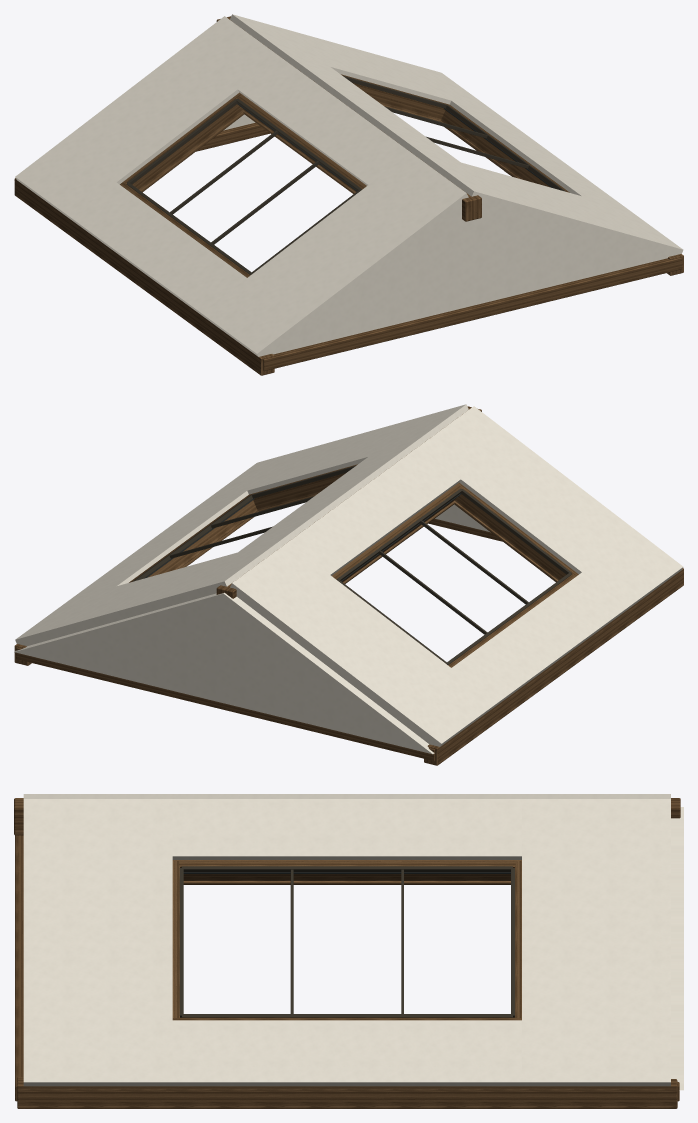
File: cozy-ceiling.glb
3 views of the same model, one above another, from view 1: azimuth 30°, elevation 25°; view 2: azimuth 150°, elevation 25°; view 3: azimuth 270°, elevation 25° (orthographic). The views are drawn at different scales.
Parts seen in each view (by area): view 1: South | plaster gable infill, West | plaster ceiling field 1, West | plaster ceiling field 2, West | plaster ceiling field 4, West | plaster ceiling field 3, East | plaster ceiling field 1, East | plaster ceiling field 2, South | gable sill beam, West | eaves bearing beam, East | plaster ceiling field 3, East | plaster ceiling field 4, West skylight | oak trimmer.001 (+11 smaller); view 2: North | plaster gable infill, West | plaster ceiling field 2, West | plaster ceiling field 1, West | plaster ceiling field 4, West | plaster ceiling field 3, East | plaster ceiling field 2, East | plaster ceiling field 1, West | eaves bearing beam, East | plaster ceiling field 3, East | plaster ceiling field 4, North | gable sill beam, West skylight | oak trimmer (+11 smaller); view 3: East | plaster ceiling field 1, East | plaster ceiling field 2, East | plaster ceiling field 4, East | plaster ceiling field 3, East | eaves bearing beam, East skylight | oak header, North | plaster gable infill, East skylight | bronze sash rail, South | gable sill beam, West | plaster ceiling field 3, East skylight | oak header.001, East skylight | bronze sash rail.001 (+10 smaller).
Boxes of the visible parts, x1,y1,x2,y2 form: South | plaster gable infill: (269,203,670,354); West | plaster ceiling field 1: (201,152,468,356); West | plaster ceiling field 2: (15,16,279,220); West | plaster ceiling field 4: (71,182,246,315); West | plaster ceiling field 3: (238,57,410,185); East | plaster ceiling field 1: (416,150,683,256); East | plaster ceiling field 2: (230,14,496,113); South | gable sill beam: (263,257,682,371); West | eaves bearing beam: (14,178,274,375); East | plaster ceiling field 3: (285,55,460,162); East | plaster ceiling field 4: (450,100,627,208); West skylight | oak trimmer.001: (123,93,243,190); North | plaster gable infill: (14,592,434,754); West | plaster ceiling field 2: (230,542,496,746); West | plaster ceiling field 1: (418,406,683,610); West | plaster ceiling field 4: (452,572,627,706); West | plaster ceiling field 3: (288,447,460,575); East | plaster ceiling field 2: (15,540,282,646); East | plaster ceiling field 1: (202,404,468,502); West | eaves bearing beam: (424,568,683,765); East | plaster ceiling field 3: (239,445,412,551); East | plaster ceiling field 4: (71,491,248,598); North | gable sill beam: (16,647,435,761); West skylight | oak trimmer: (455,483,578,580); East | plaster ceiling field 1: (23,799,172,1086); East | plaster ceiling field 2: (522,799,670,1086); East | plaster ceiling field 4: (172,1020,521,1086); East | plaster ceiling field 3: (172,799,521,859); East | eaves bearing beam: (17,1077,677,1108); East skylight | oak header: (172,860,521,880); North | plaster gable infill: (671,807,683,1090); East skylight | bronze sash rail: (181,866,512,872); South | gable sill beam: (15,835,23,1101); West | plaster ceiling field 3: (172,794,521,798); East skylight | oak header.001: (172,1017,521,1020); East skylight | bronze sash rail.001: (181,1014,512,1017).
Bounding box in the file's own units: 6.11 × 1.8 × 6.21.
5 materials, 2 textured.
